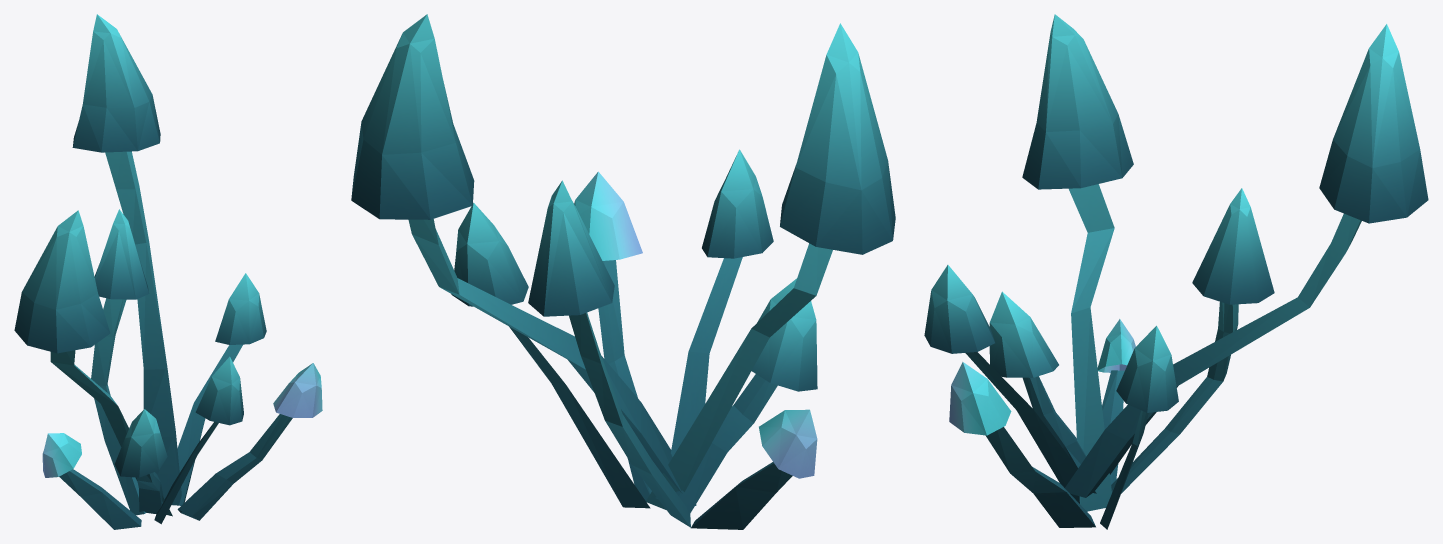
Rendered from ZLP_Mushroom_A_5.FBX.
The picture shows the model from 3 angles, left to right: view 1: azimuth 30°, elevation 25°; view 2: azimuth 150°, elevation 25°; view 3: azimuth 270°, elevation 25°; orthographic projection. The views are drawn at different scales.
Parts seen in each view (by area): view 1: ZLP_Mushroom_A_5; view 2: ZLP_Mushroom_A_5; view 3: ZLP_Mushroom_A_5.
Part boxes in pixels (bbox=[...]): ZLP_Mushroom_A_5: bbox=[14, 14, 322, 529]; ZLP_Mushroom_A_5: bbox=[351, 14, 895, 529]; ZLP_Mushroom_A_5: bbox=[924, 14, 1428, 529].
Bounding box in the file's own units: 70.16 × 102 × 89.41.
